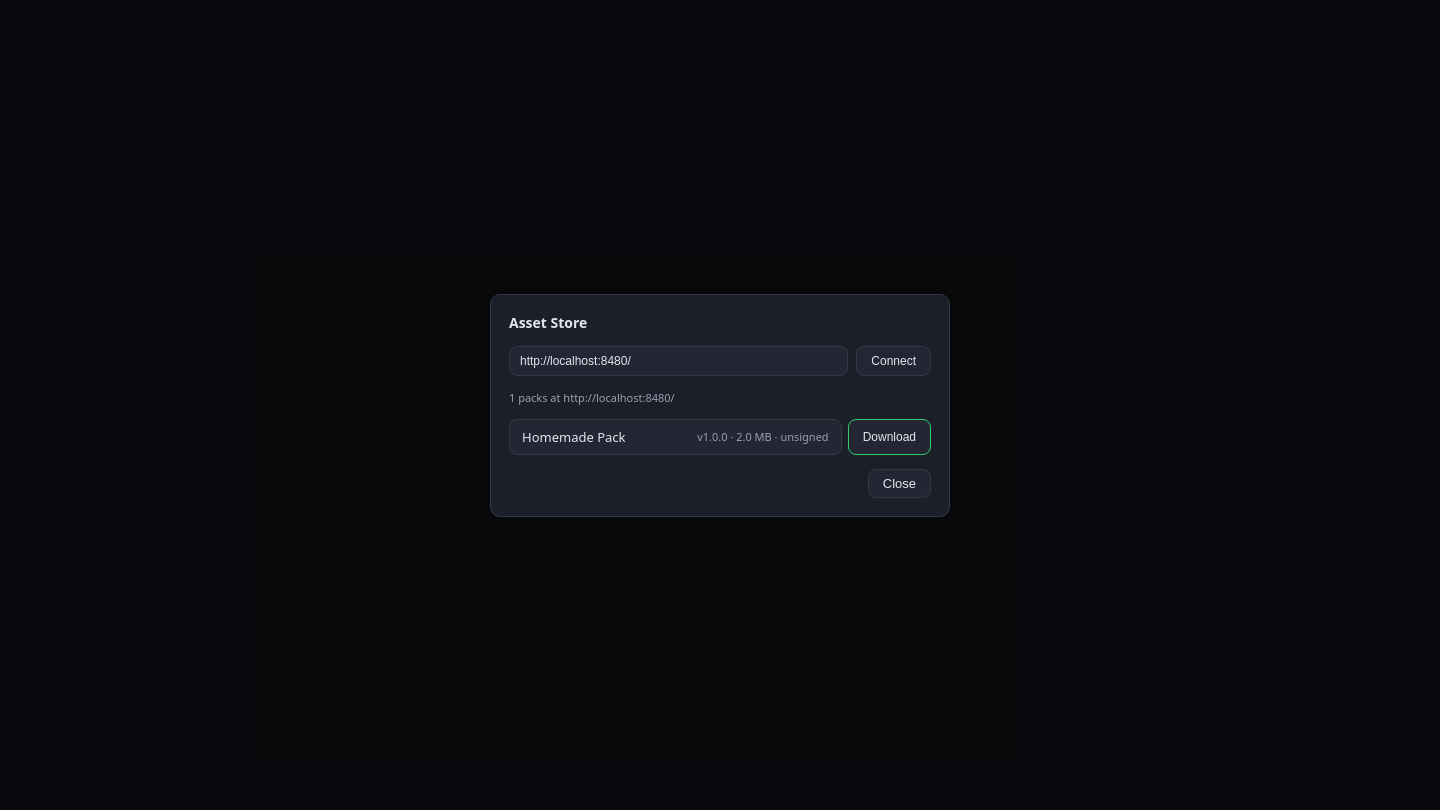
AssetStore trust flow › names the pack in the confirmation so the user knows what they are trusting
The image size is (1440, 810).
Click the button "Download" at (889, 436), box [848,418,931,454]
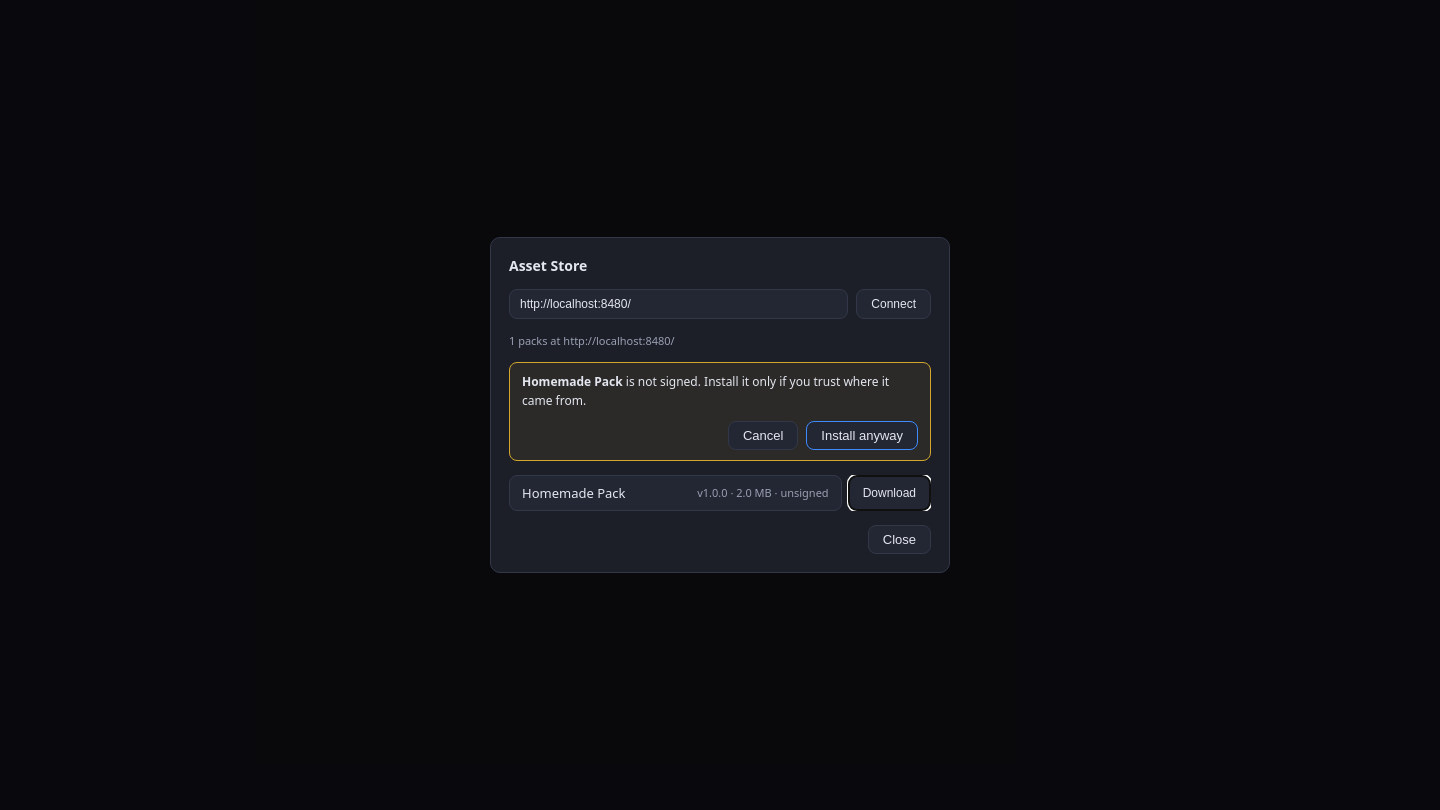
expect the text "is not signed" shows "Homemade Pack": met, box [522,373,623,390]
